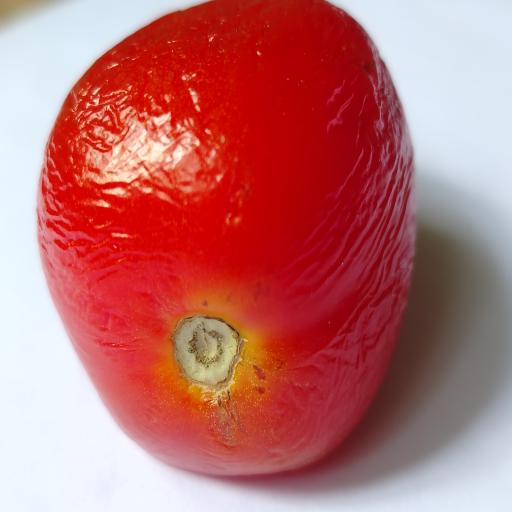spoiled: (37, 0, 415, 474)
